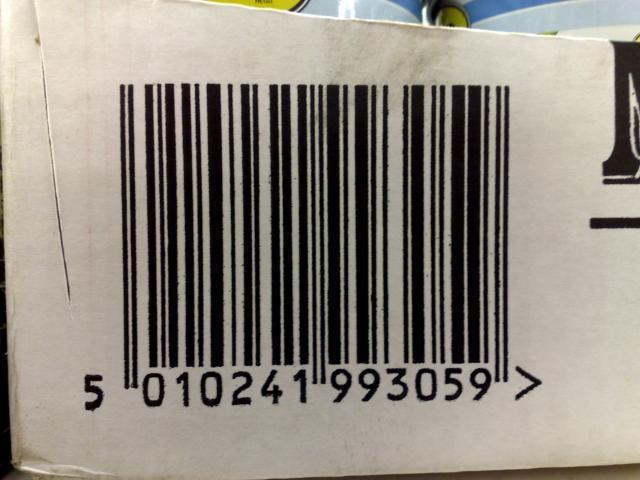Barcode: (75, 55, 568, 427)
